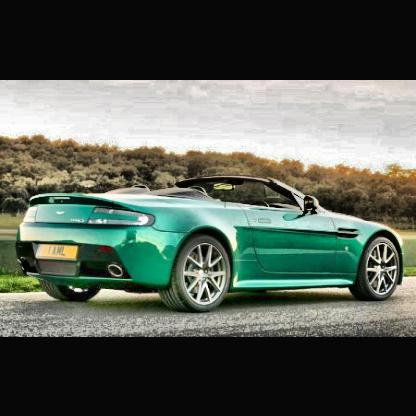Aston Martin V8 Vantage Convertible 2012: (16, 172, 407, 315)
